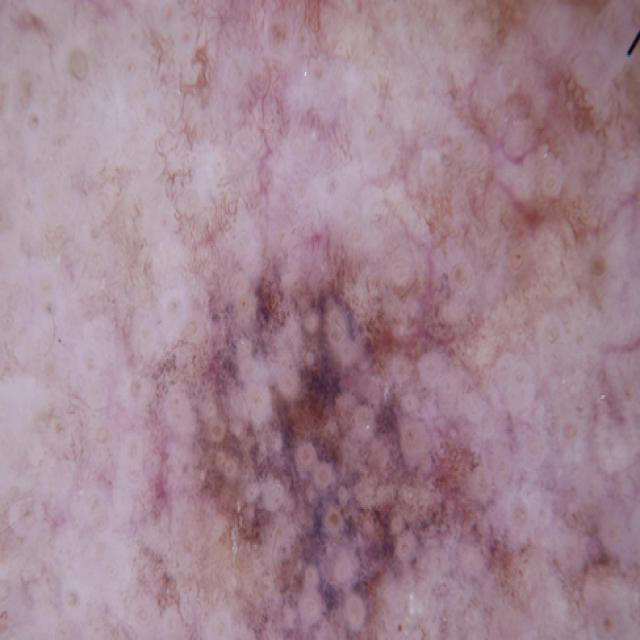Keratosis: (178, 231, 502, 640)
